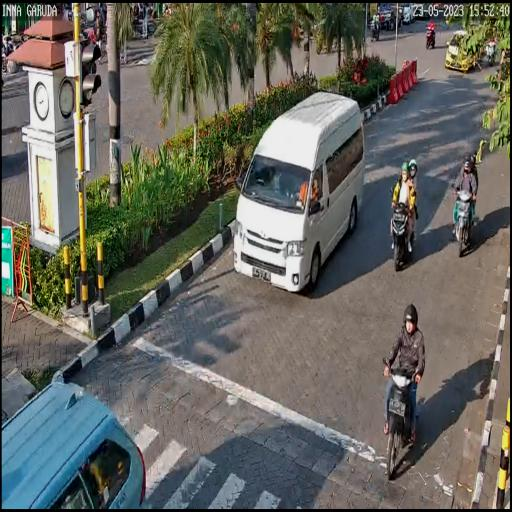mobil: (228, 92, 369, 297)
motor: (379, 349, 423, 482), (388, 179, 420, 276), (449, 176, 478, 262)
